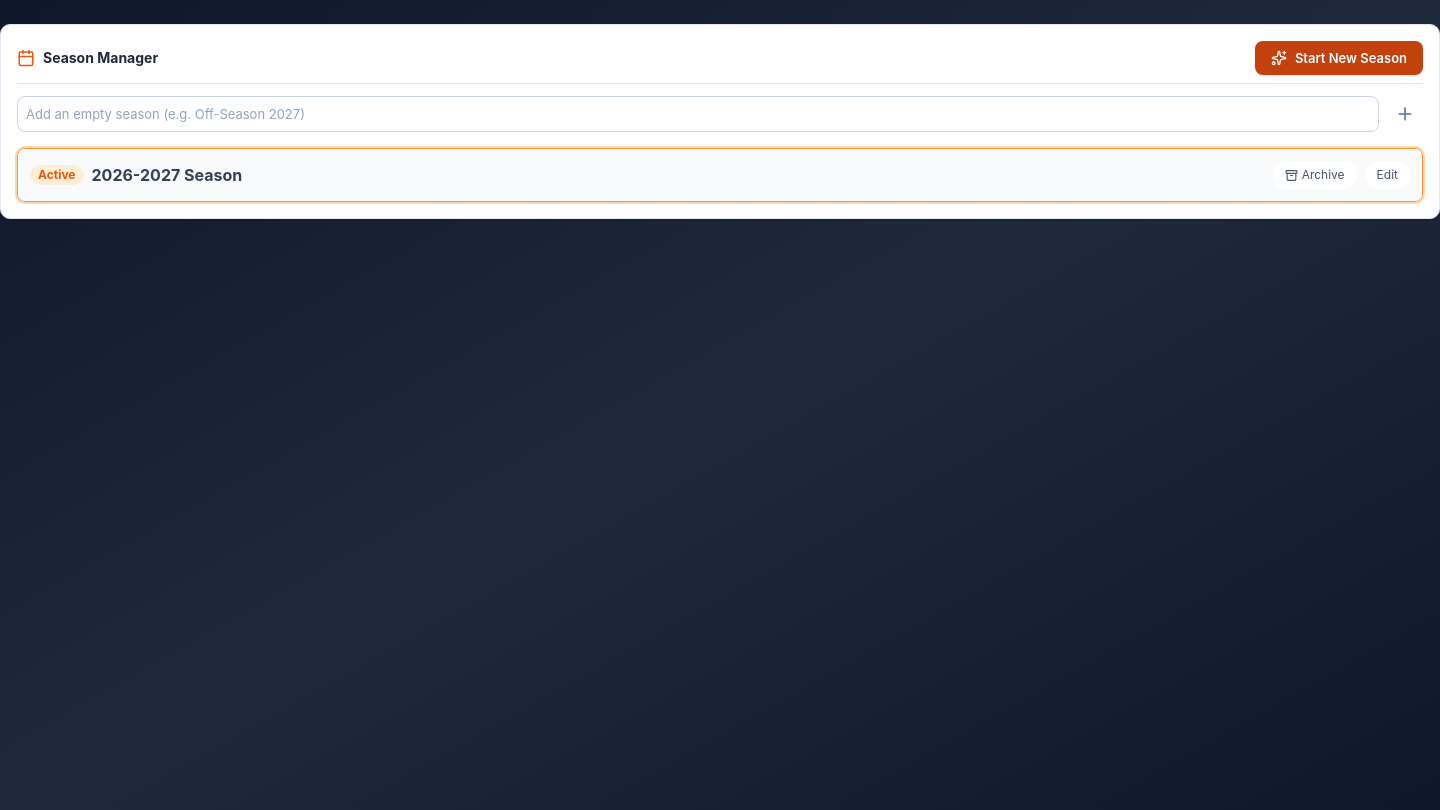
Test case: SeasonManager › The new-season wizard › pre-fills the next season name from the current one
The width and height of the screenshot is (1440, 810).
Click the button with test id "start-new-season".
click(1339, 58)  # box [1255,41,1423,75]
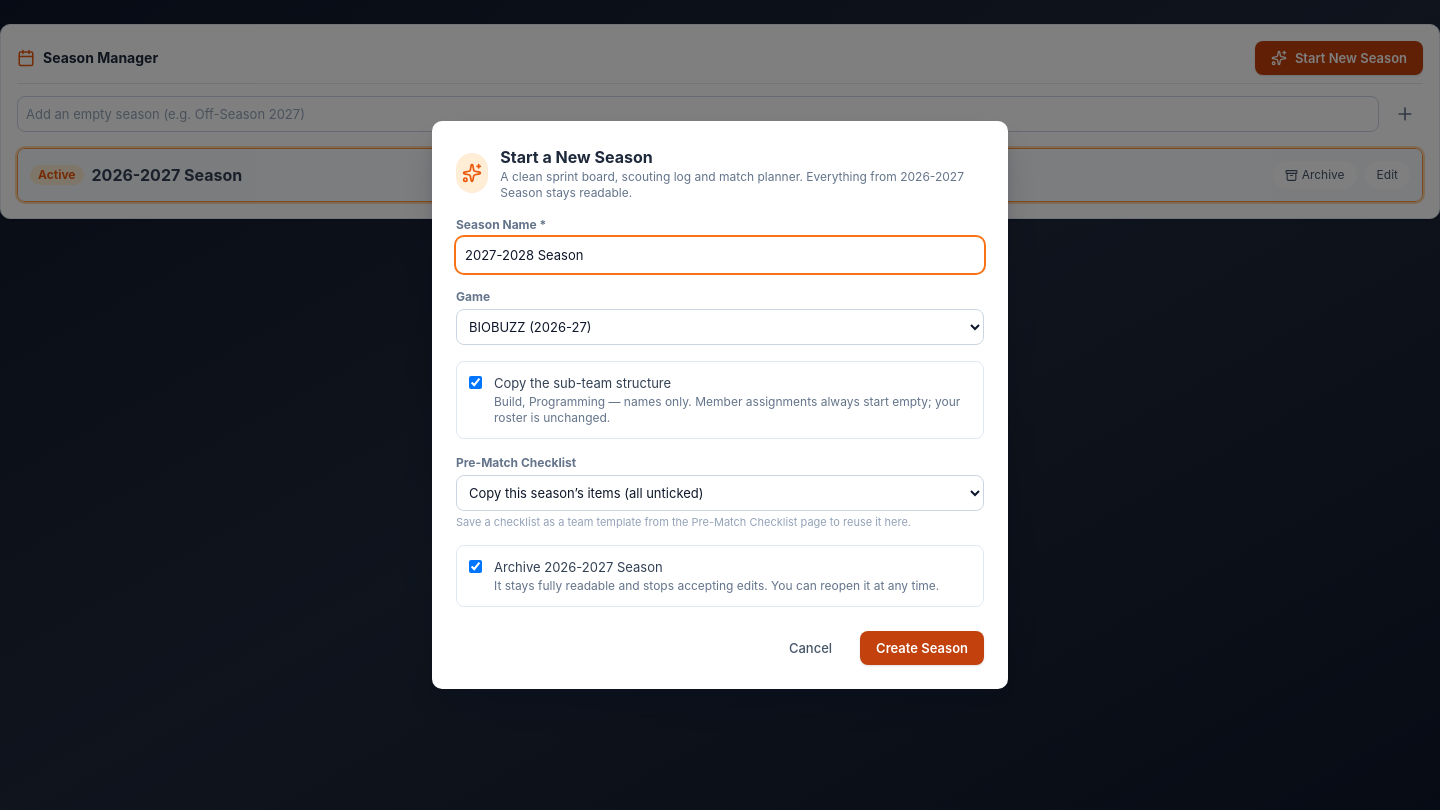
Now the field with test id "wizard-season-name" holds "2027-2028 Season", box [456,237,984,273]
